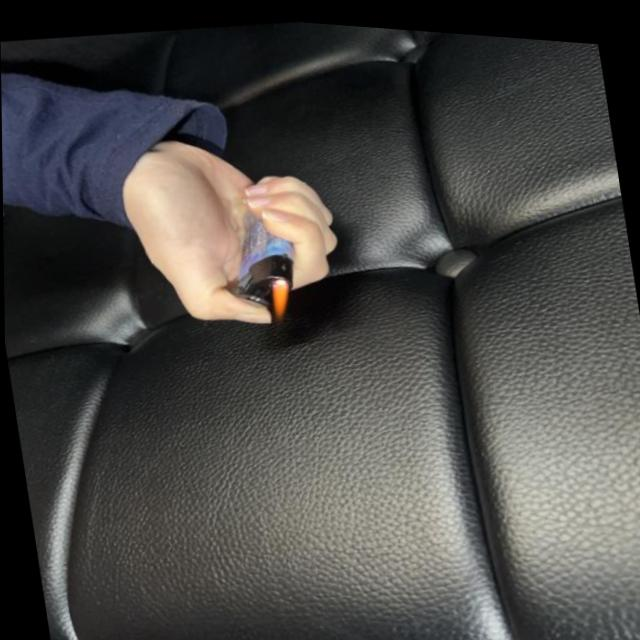Fire: (268, 272, 295, 319)
